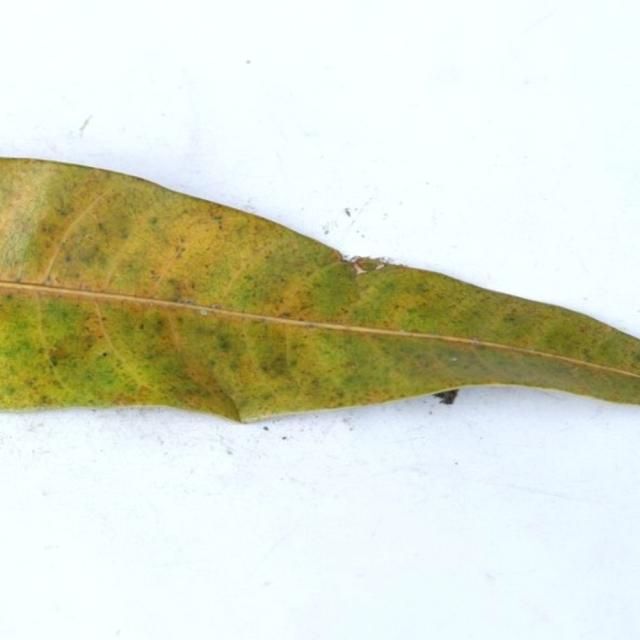Mango: (0, 159, 639, 421)
Powdery_Mildew: (286, 260, 366, 319), (59, 214, 129, 275), (157, 270, 222, 315), (251, 336, 298, 384), (393, 278, 438, 305), (67, 241, 104, 268), (211, 330, 240, 357), (48, 345, 72, 363), (501, 308, 522, 324), (114, 393, 140, 405), (148, 212, 166, 229), (134, 384, 154, 397), (96, 222, 110, 236), (57, 205, 71, 217), (149, 273, 163, 283), (11, 274, 24, 282), (212, 214, 222, 224), (303, 322, 317, 329), (403, 328, 416, 335), (634, 350, 640, 365), (46, 275, 56, 284), (50, 355, 58, 365), (279, 312, 292, 318), (64, 254, 72, 262), (140, 323, 145, 330), (102, 351, 107, 357)
